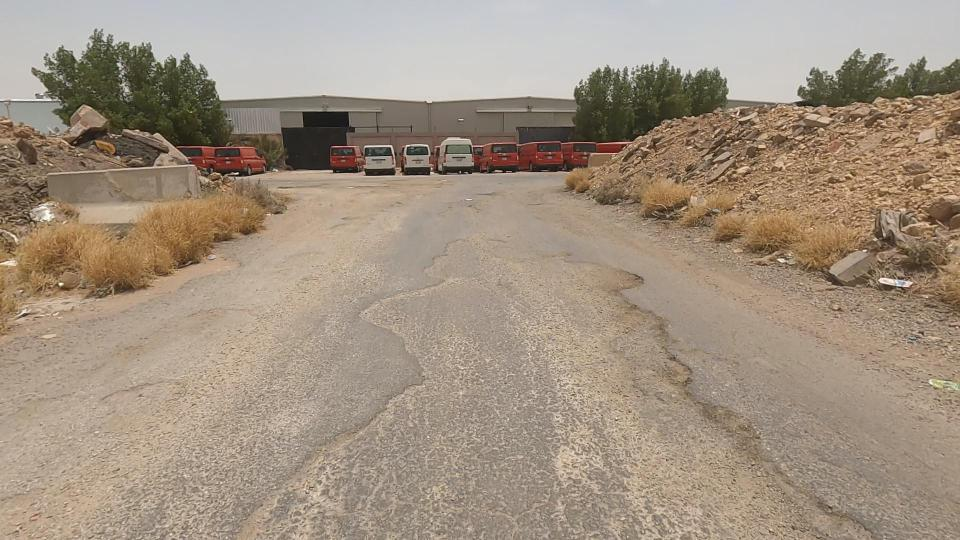GARBAGE: (0, 172, 101, 269), (832, 249, 952, 323), (66, 116, 182, 178), (0, 266, 72, 362)
POTHOLES: (548, 223, 819, 531), (630, 360, 901, 540), (510, 221, 720, 353), (91, 347, 218, 427), (319, 167, 399, 211), (311, 199, 377, 246)
